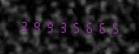five: (69, 19, 81, 34), (108, 20, 120, 34)
nine: (30, 19, 42, 33), (43, 19, 55, 33)
six: (82, 20, 94, 34), (95, 20, 107, 34)
three: (17, 19, 29, 33), (56, 19, 68, 33)
